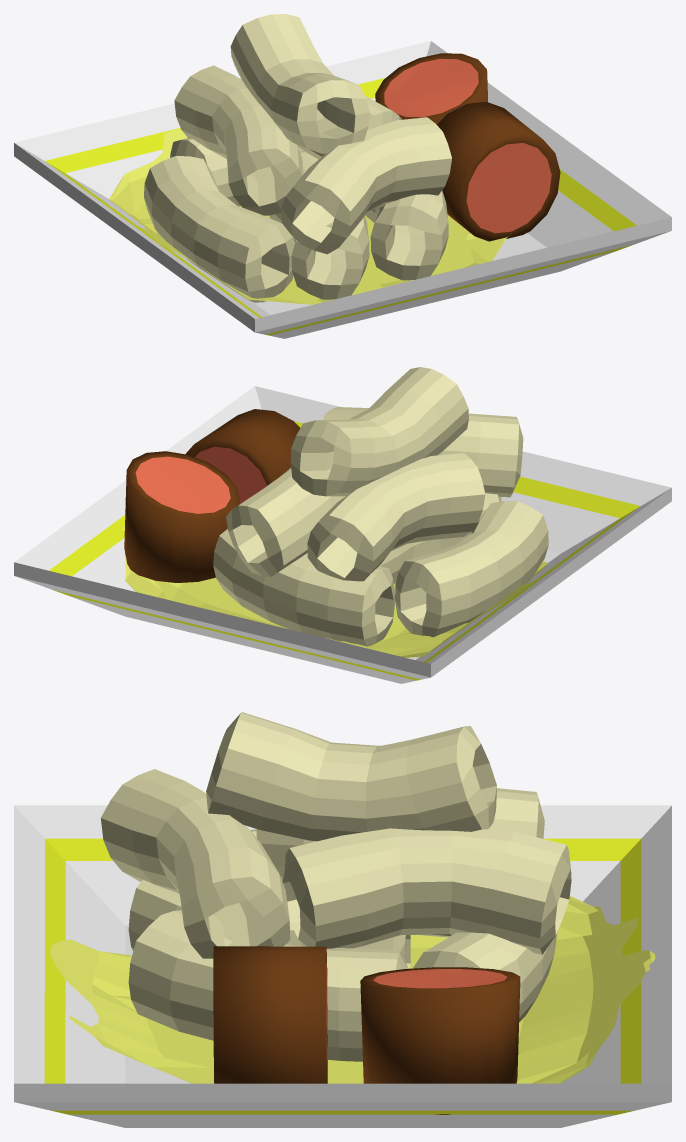
The model's file is split_dogged_mac.fbx.
3 views of the same model, one above another, from view 1: azimuth 30°, elevation 25°; view 2: azimuth 150°, elevation 25°; view 3: azimuth 270°, elevation 25° (orthographic). The views are drawn at different scales.
Parts seen in each view (by area): view 1: Noodles, Cup, HotdogSlices, Cheese; view 2: Noodles, Cup, HotdogSlices, Cheese; view 3: Noodles, Cup, HotdogSlices, Cheese.
Boxes of the visible parts, box(x1,y1,x2,y2) form: Noodles: box(144, 14, 451, 302); Cup: box(14, 41, 671, 338); HotdogSlices: box(375, 53, 560, 241); Cheese: box(108, 129, 508, 304); Noodles: box(213, 367, 548, 646); Cup: box(14, 386, 671, 683); HotdogSlices: box(124, 409, 300, 582); Cheese: box(123, 497, 548, 657); Noodles: box(100, 712, 571, 1061); Cup: box(14, 805, 671, 1127); HotdogSlices: box(213, 946, 520, 1114); Cheese: box(50, 896, 655, 1083).
Size of the model in its own units: 28.8 by 13.73 by 28.8.
